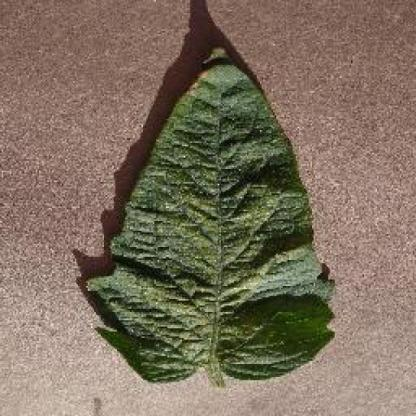Tomato_Spider_Mites: (88, 47, 334, 376)
